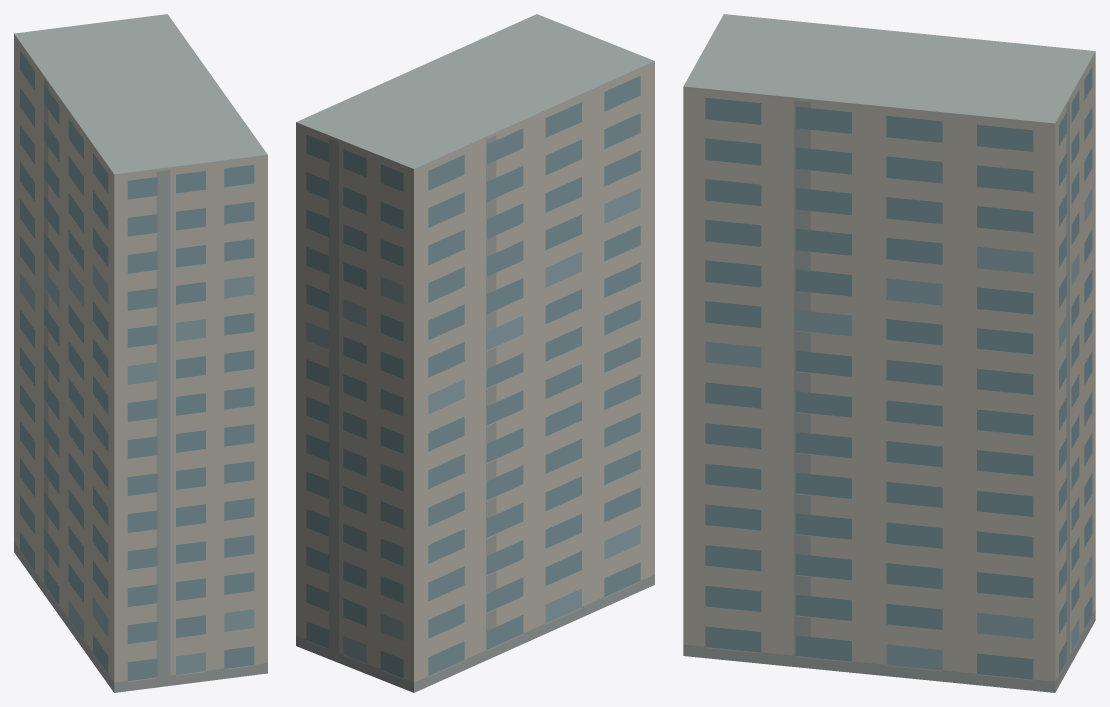
File: residential-bddf06f0-fee6-4449-8b1e-f805ec298641.glb
The picture shows the model from 3 angles, left to right: view 1: azimuth 30°, elevation 25°; view 2: azimuth 150°, elevation 25°; view 3: azimuth 270°, elevation 25°; orthographic projection. The views are drawn at different scales.
Visible parts, largest first — view 1: residential-bddf06f0-fee6-4449-8b1e-f805ec298641.tmp; view 2: residential-bddf06f0-fee6-4449-8b1e-f805ec298641.tmp; view 3: residential-bddf06f0-fee6-4449-8b1e-f805ec298641.tmp.
Part boxes in pixels (<box>): residential-bddf06f0-fee6-4449-8b1e-f805ec298641.tmp: <box>14,14,267,692</box>; residential-bddf06f0-fee6-4449-8b1e-f805ec298641.tmp: <box>296,14,654,692</box>; residential-bddf06f0-fee6-4449-8b1e-f805ec298641.tmp: <box>683,14,1095,692</box>.
Size of the model in its own units: 18.56 by 45 by 29.53.
